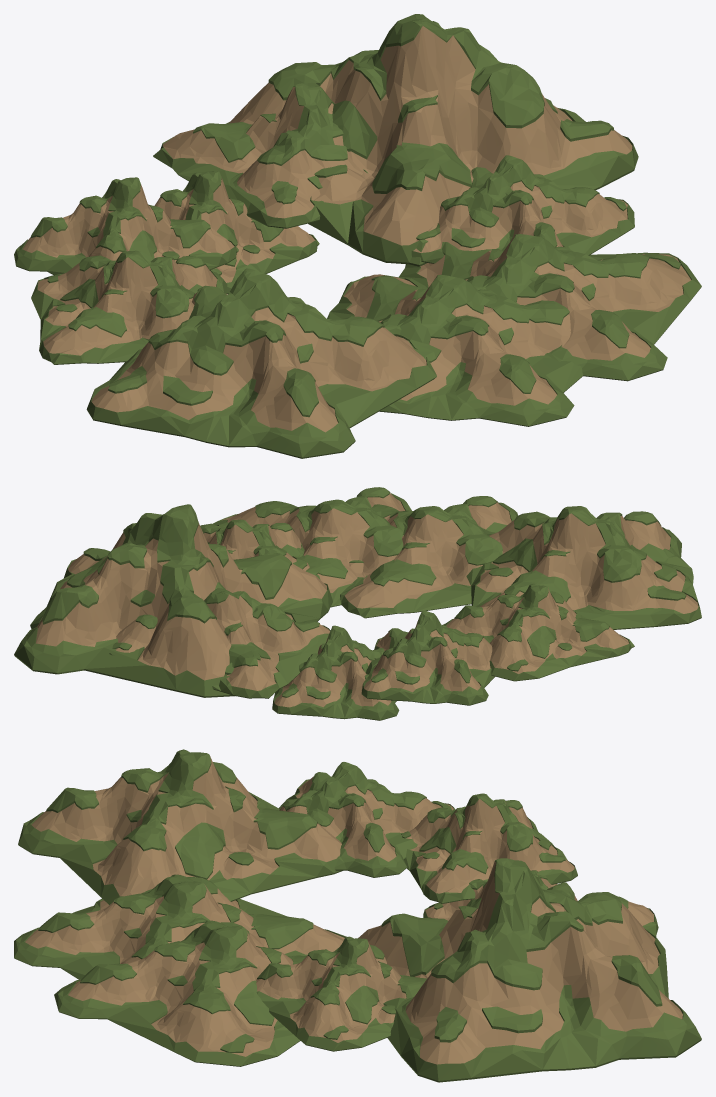
Rendered from SM_Env_MountainGrass.glb.
3 renders of one model, top to bottom at view 1: azimuth 30°, elevation 25°; view 2: azimuth 150°, elevation 25°; view 3: azimuth 270°, elevation 25°, orthographic. The views are drawn at different scales.
Visible parts, largest first — view 1: SM_Env_MountainGrass; view 2: SM_Env_MountainGrass; view 3: SM_Env_MountainGrass.
Boxes of the visible parts, x1,y1,x2,y2 form: SM_Env_MountainGrass: (14,14,701,458); SM_Env_MountainGrass: (14,487,701,720); SM_Env_MountainGrass: (14,749,701,1082).
Size of the model in its own units: 615 by 158 by 594.
Materials: 1 (1 with a texture image).
